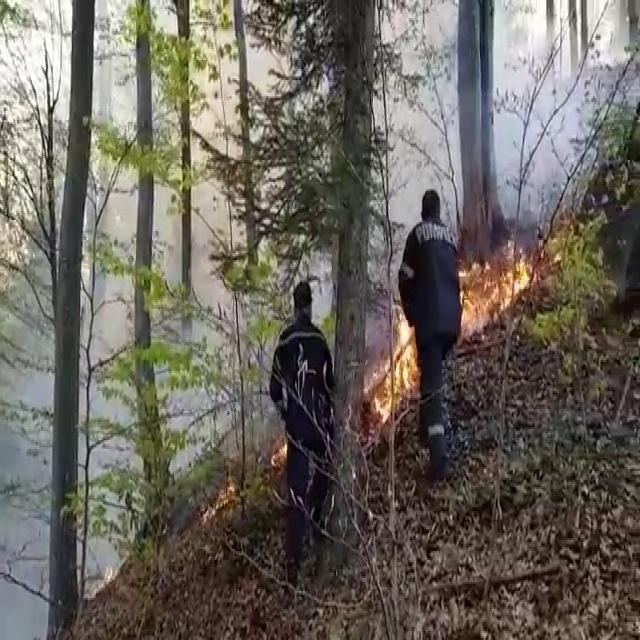Fire: (458, 234, 534, 340), (369, 289, 422, 438)
Smoke: (492, 0, 640, 210)
